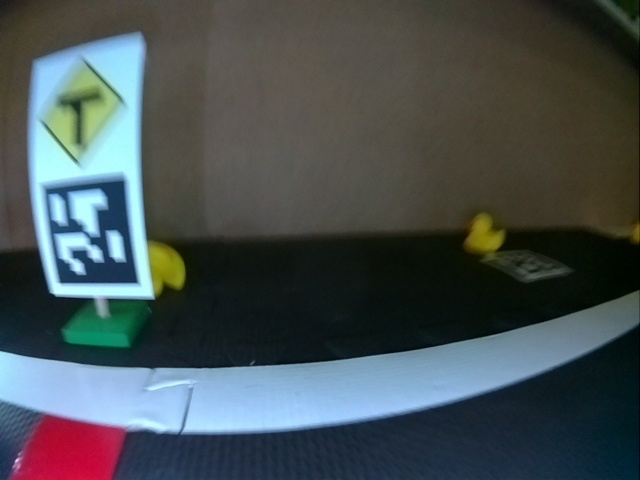Duckie: (149, 241, 185, 291), (464, 212, 499, 251)
QR code: (43, 176, 139, 286)
